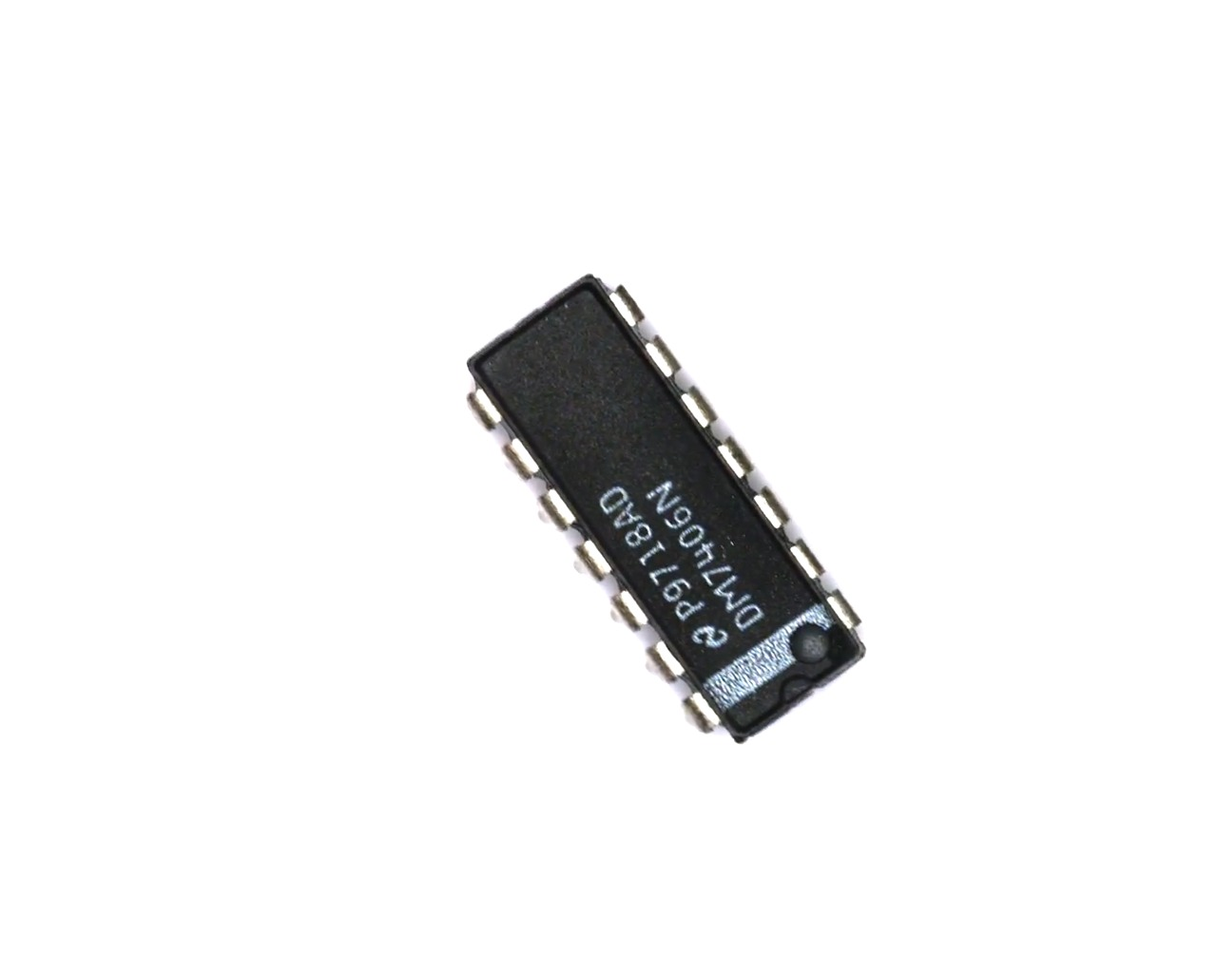IC: (430, 243, 908, 774)
notch: (773, 677, 815, 717)
